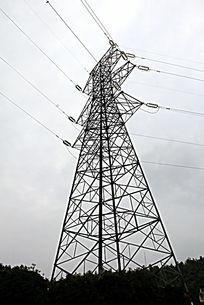power_tower: (53, 42, 183, 276)
